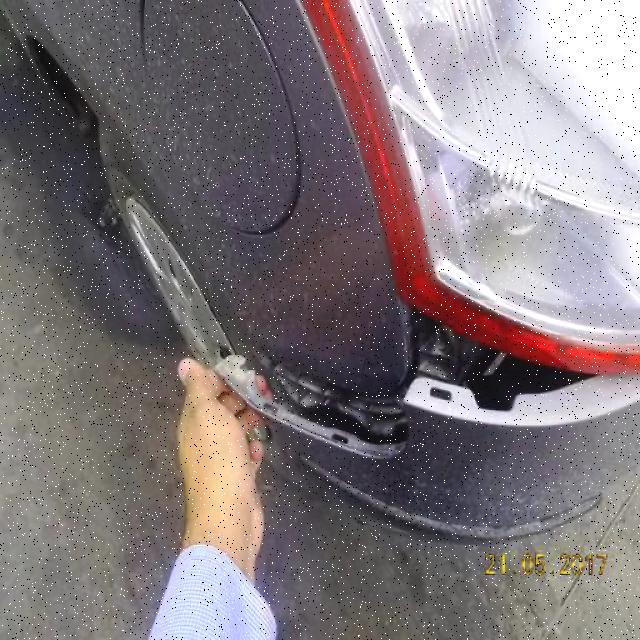car damage: (214, 300, 598, 459)
